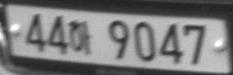0: (132, 21, 156, 61)
4: (160, 22, 184, 64), (25, 13, 47, 52), (47, 15, 69, 54)
7: (185, 24, 206, 64)
9: (108, 19, 130, 59)
하: (70, 19, 91, 55)
